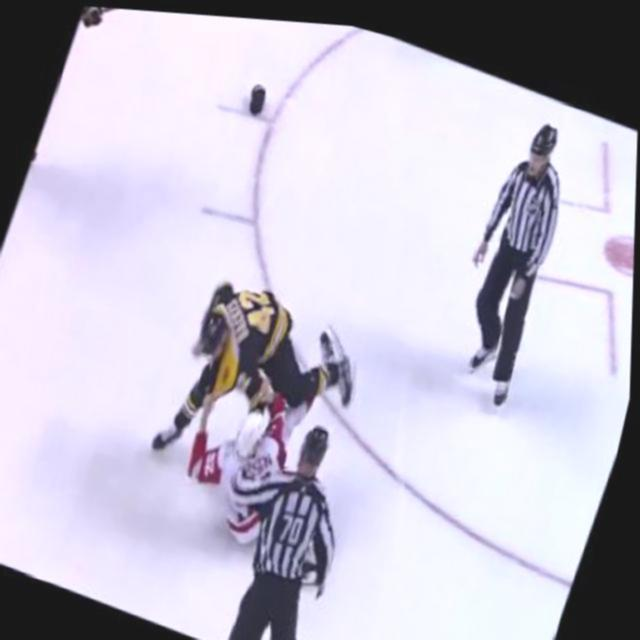fight: (138, 261, 375, 554)
